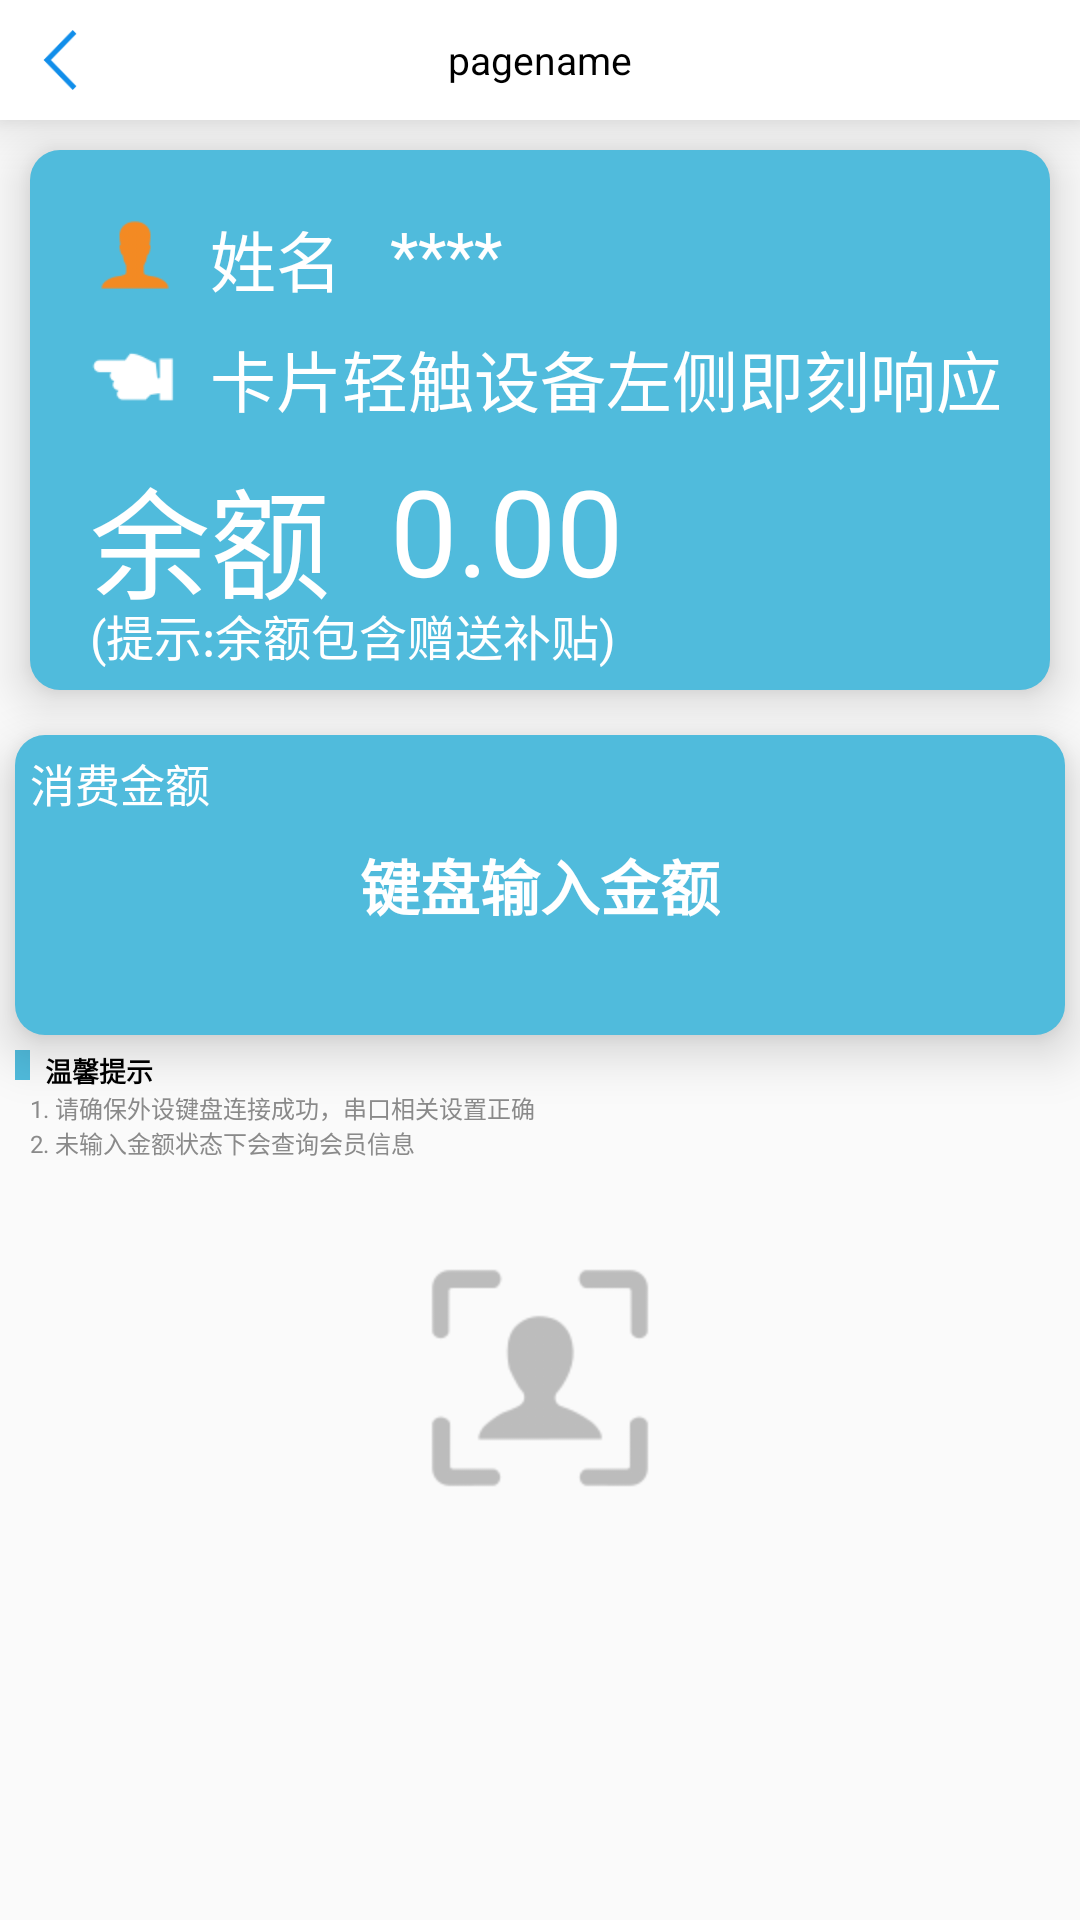

Icons on this 1080×1920 Android screen, each with its box as (x1, y1, x2, y2):
facepay: (432, 1270, 648, 1486)
fanhui: (44, 30, 77, 90)
person: (101, 221, 169, 289)
